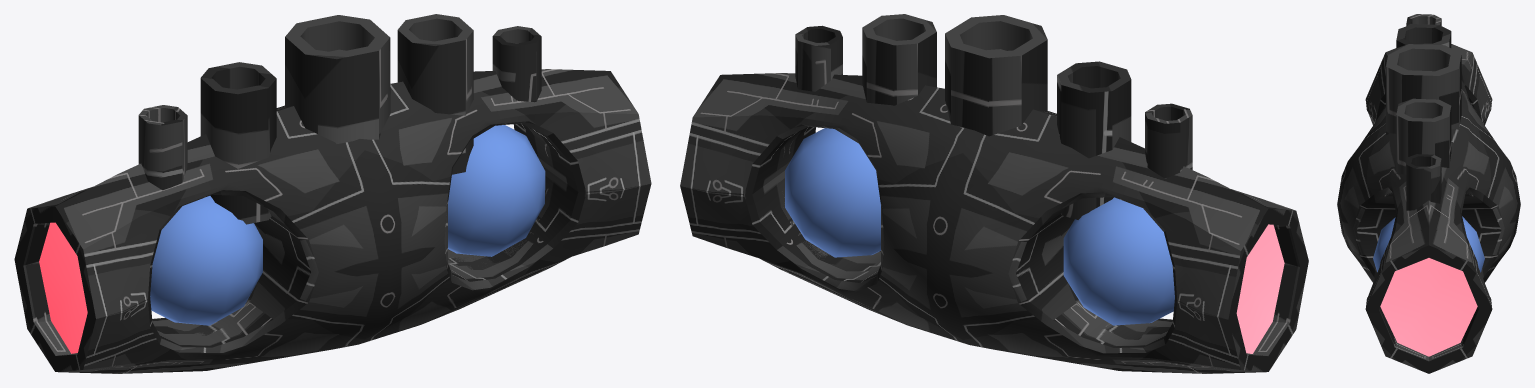
The model's file is enemyGunnerShip.fbx.
3 renders of one model, left to right at view 1: azimuth 30°, elevation 25°; view 2: azimuth 150°, elevation 25°; view 3: azimuth 270°, elevation 25°, orthographic. The views are drawn at different scales.
Visible parts, largest first — view 1: Cube.051, Cube.052, Icosphere.009, Icosphere.008, Cube.003, Cube.002, Cube.053, Cube.004, Cube.001; view 2: Cube.051, Icosphere.009, Cube.052, Icosphere.008, Cube.003, Cube.002, Cube.053, Cube.004, Cube.001; view 3: Cube.051, Cube.053, Cube.052, Cube.002, Cube.001, Cube.003, Icosphere.008, Cube.004.
Boxes of the visible parts, x1,y1,x2,y2 form: Cube.051: (14,69,651,373); Cube.052: (285,15,390,143); Icosphere.009: (150,196,262,325); Icosphere.008: (448,125,545,256); Cube.003: (200,62,276,224); Cube.002: (397,14,473,174); Cube.053: (39,222,87,353); Cube.004: (138,105,187,190); Cube.001: (492,26,541,102); Cube.051: (680,73,1308,373); Icosphere.009: (1063,197,1174,325); Cube.052: (945,15,1047,136); Icosphere.008: (785,128,880,257); Cube.003: (1057,61,1131,219); Cube.002: (862,14,936,105); Cube.053: (1236,224,1284,353); Cube.004: (1145,103,1192,178); Cube.001: (795,25,842,91); Cube.051: (1337,44,1520,373); Cube.053: (1380,258,1477,356); Cube.052: (1386,44,1461,135); Cube.002: (1396,98,1451,174); Cube.001: (1406,154,1441,210); Cube.003: (1396,24,1451,48); Icosphere.008: (1373,216,1484,272); Cube.004: (1406,14,1441,26).
Size of the model in its own units: 631 by 342 by 233.
